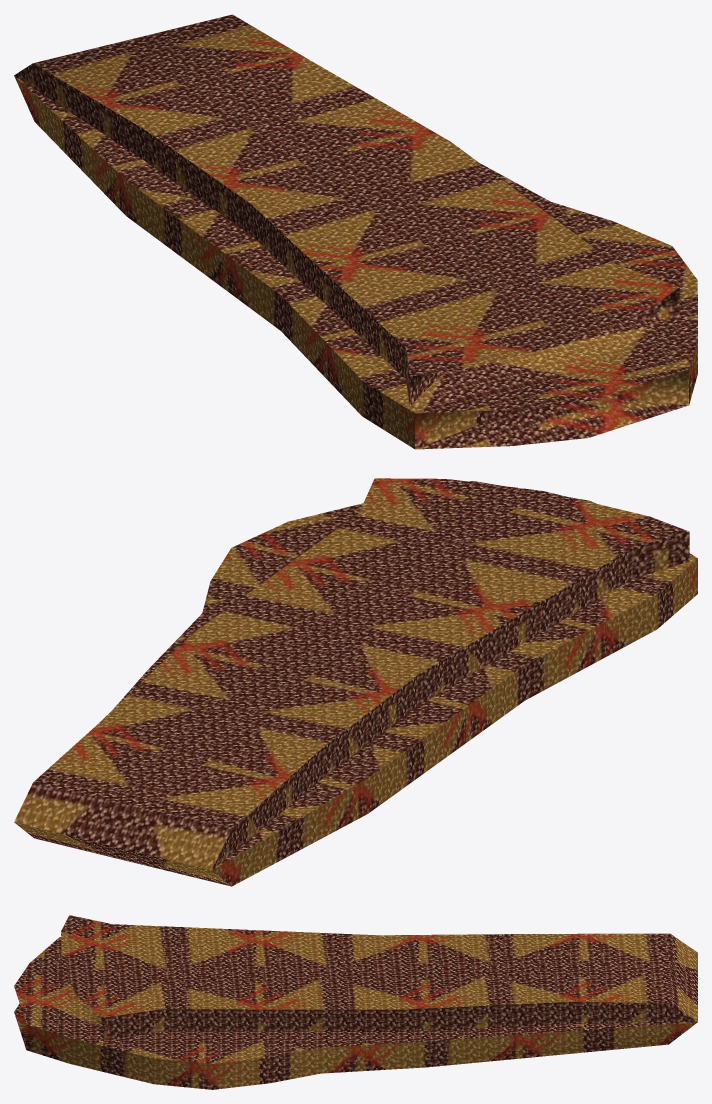
Rendered from pants.gltf.
3 views of the same model, one above another, from view 1: azimuth 30°, elevation 25°; view 2: azimuth 150°, elevation 25°; view 3: azimuth 270°, elevation 25° (orthographic). The views are drawn at different scales.
Parts seen in each view (by area): view 1: pants; view 2: pants; view 3: pants.
Part boxes in pixels (bbox=[...]): pants: bbox=[14, 14, 697, 449]; pants: bbox=[14, 478, 697, 886]; pants: bbox=[14, 915, 697, 1089].
Size of the model in its own units: 0.3123 by 0.0544 by 0.6987.
Materials: 3 (3 with a texture image).
